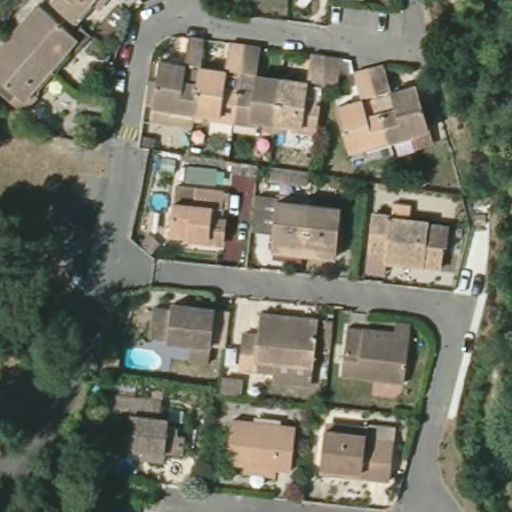pool: (119, 343, 169, 373), (145, 187, 170, 212)
